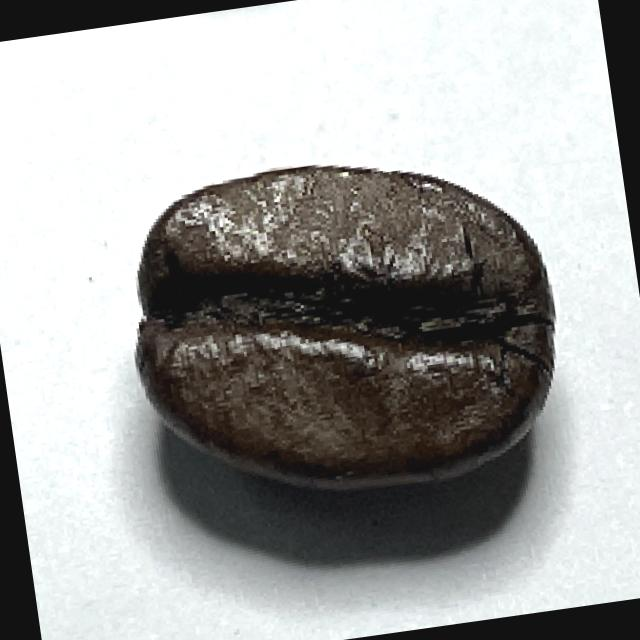bean: (112, 134, 578, 512)
